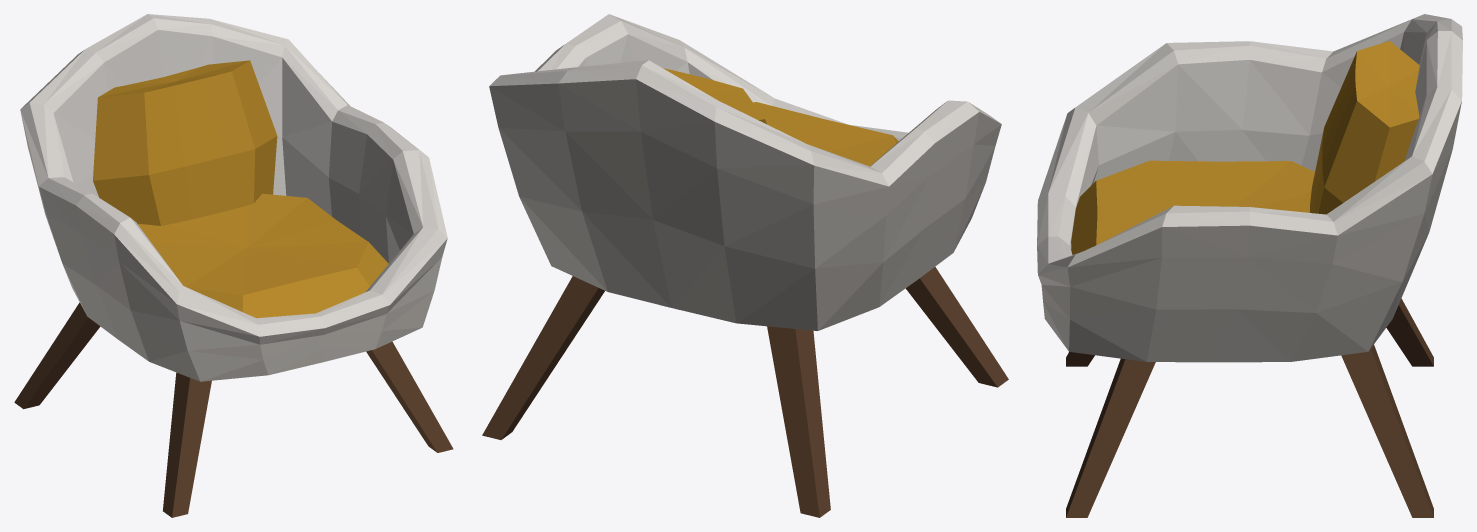
File: lounge-armchair-5a72ca.glb
3 renders of one model, left to right at view 1: azimuth 30°, elevation 25°; view 2: azimuth 150°, elevation 25°; view 3: azimuth 270°, elevation 25°, orthographic. The views are drawn at different scales.
Parts seen in each view (by area): view 1: shell, back-cushion-mesh, seat-pad-mesh; view 2: shell, seat-pad-mesh, back-cushion-mesh; view 3: shell, seat-pad-mesh, back-cushion-mesh.
Part boxes in pixels (x1,y1,x2,y2): shell: [14, 14, 453, 517]; back-cushion-mesh: [93, 60, 277, 225]; seat-pad-mesh: [138, 193, 388, 318]; shell: [482, 14, 1008, 517]; seat-pad-mesh: [753, 102, 898, 166]; back-cushion-mesh: [663, 68, 766, 124]; shell: [1037, 14, 1462, 517]; seat-pad-mesh: [1071, 160, 1314, 254]; back-cushion-mesh: [1310, 41, 1419, 214].
Size of the model in its own units: 0.75 by 0.79 by 0.75.
